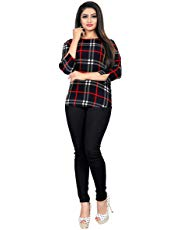tops: (59, 31, 123, 112)
